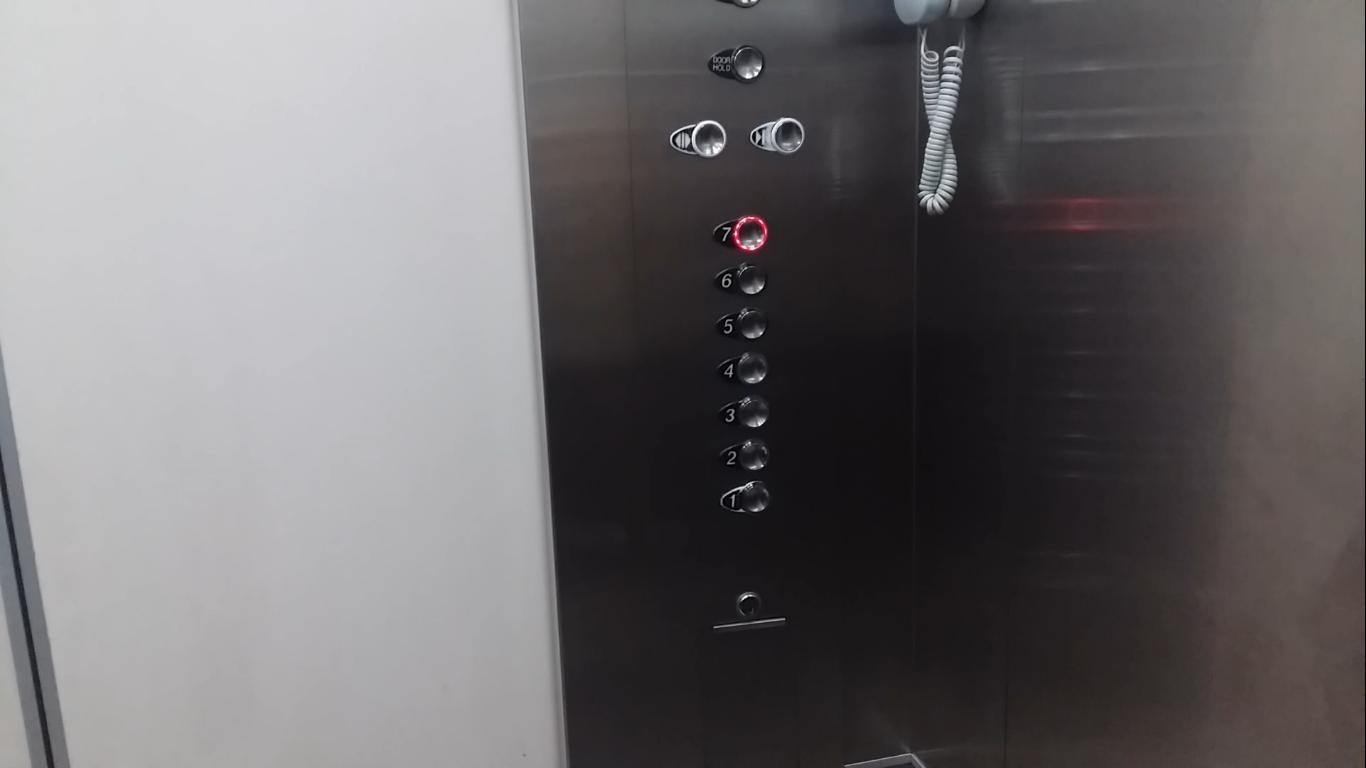1: (717, 478, 776, 519)
2: (715, 434, 774, 475)
3: (714, 391, 773, 432)
4: (713, 347, 772, 388)
5: (713, 303, 772, 344)
6: (711, 258, 770, 299)
7: (711, 212, 770, 253)
close: (749, 115, 808, 156)
open: (669, 117, 728, 158)
text_hold: (705, 40, 768, 83)
